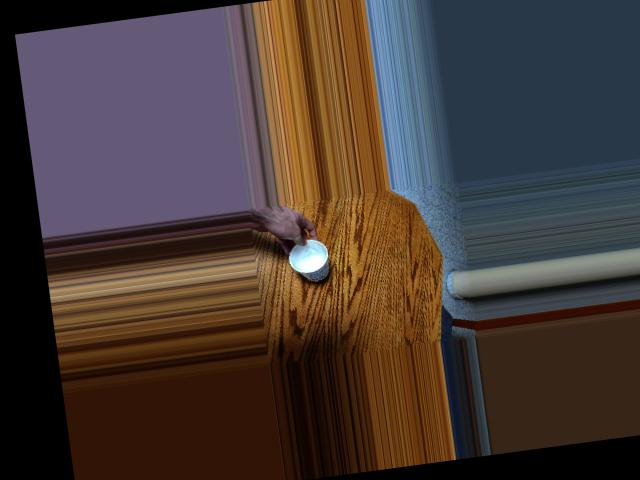cotage: (286, 230, 333, 280)
